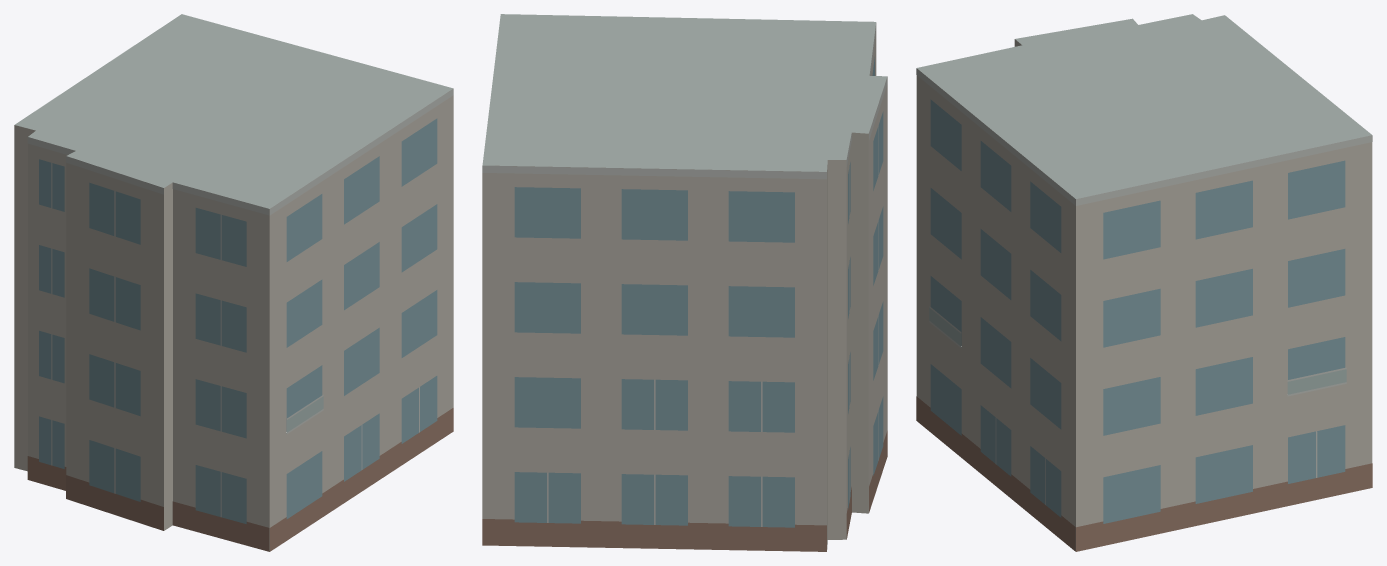
Rendered from survey-upis-32818885.glb.
3 views of the same model, side by side, from view 1: azimuth 30°, elevation 25°; view 2: azimuth 150°, elevation 25°; view 3: azimuth 270°, elevation 25° (orthographic). The views are drawn at different scales.
Parts seen in each view (by area): view 1: survey-upis-32818885.tmp; view 2: survey-upis-32818885.tmp; view 3: survey-upis-32818885.tmp.
Boxes of the visible parts, x1,y1,x2,y2 form: survey-upis-32818885.tmp: (14,14,453,551); survey-upis-32818885.tmp: (482,14,887,551); survey-upis-32818885.tmp: (916,14,1372,551).
Bounding box in the file's own units: 14.09 × 12.5 × 14.66.
